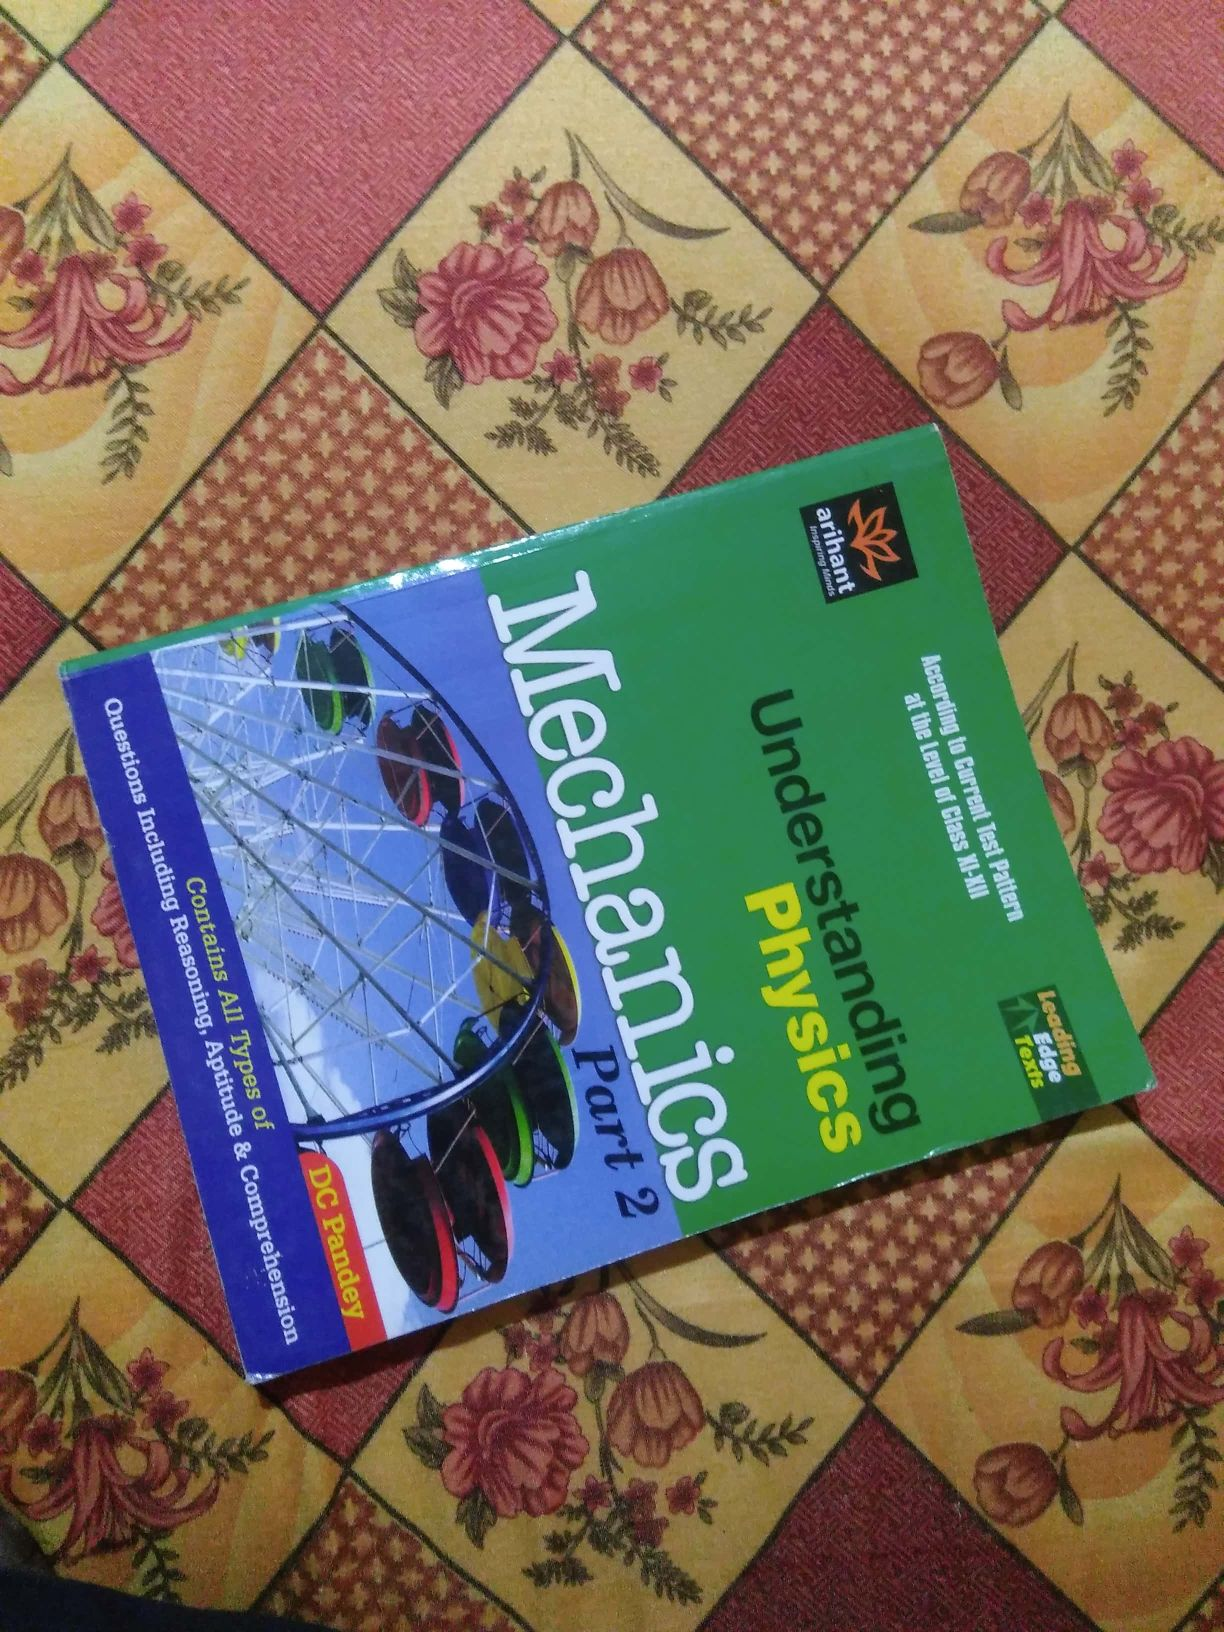mechanics: (68, 448, 1117, 1380)
